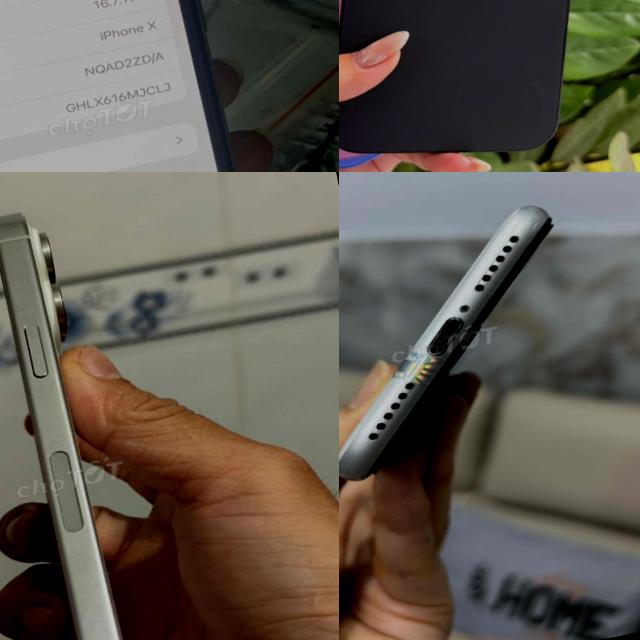scratch: (499, 204, 551, 238)
